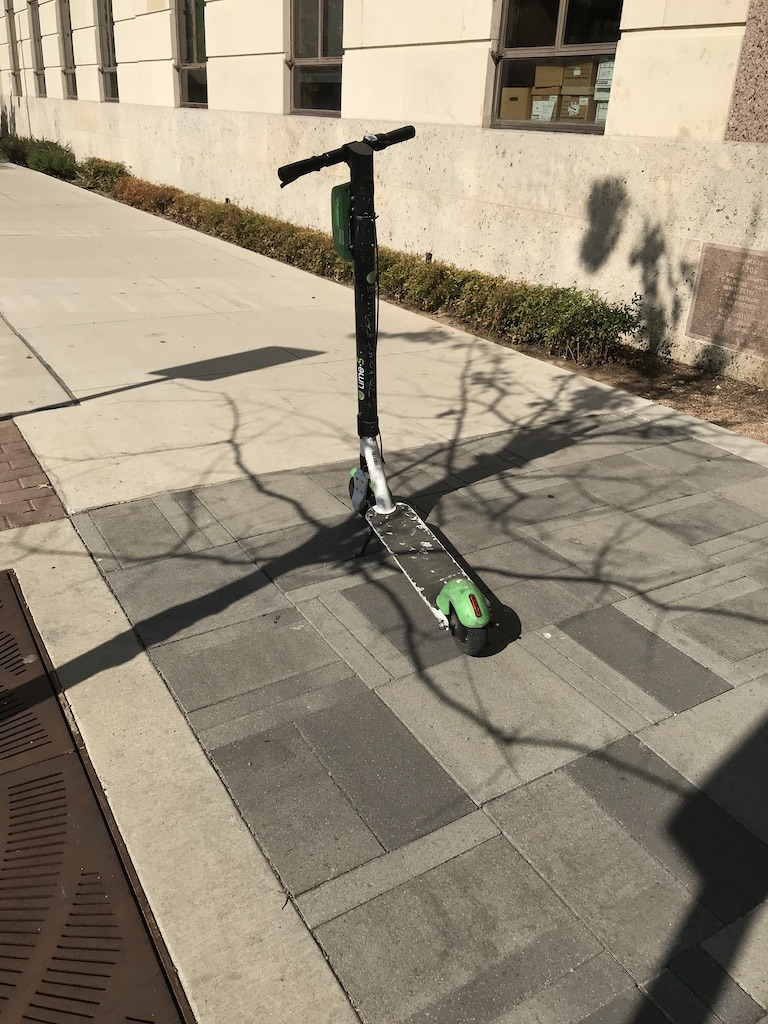scooter: (278, 124, 490, 650)
